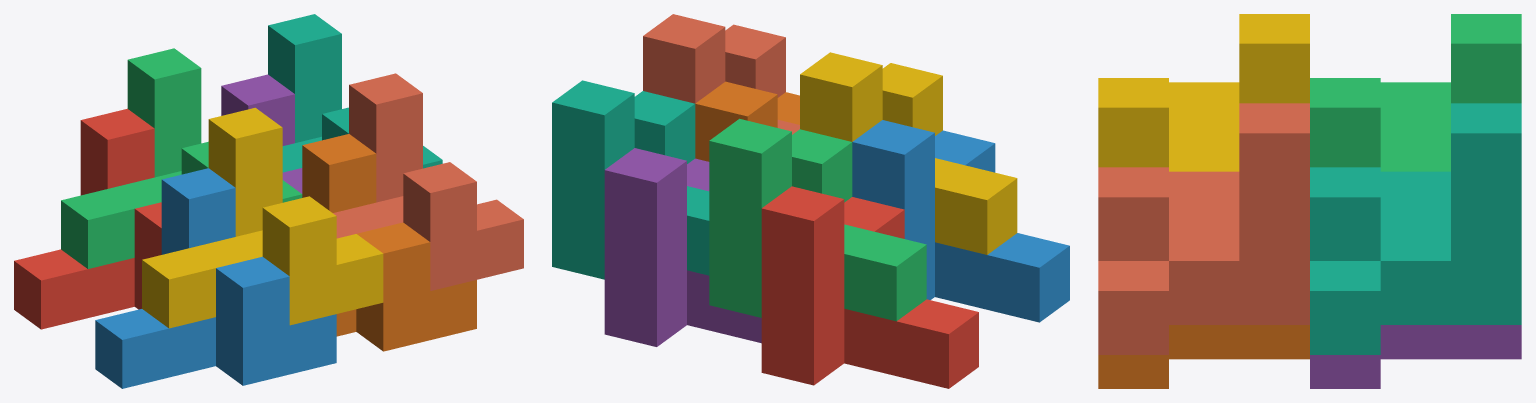
Rendered from tiling.obj.
The picture shows the model from 3 angles, left to right: view 1: azimuth 30°, elevation 25°; view 2: azimuth 150°, elevation 25°; view 3: azimuth 270°, elevation 25°; orthographic projection. The views are drawn at different scales.
Parts seen in each view (by area): view 1: copy_1_domain_4, copy_1_domain_2, copy_1_domain_8, copy_1_domain_6, copy_1_domain_1, copy_1_domain_3, copy_1_domain_7, copy_1_domain_5; view 2: copy_1_domain_1, copy_1_domain_3, copy_1_domain_2, copy_1_domain_5, copy_1_domain_7, copy_1_domain_4, copy_1_domain_8, copy_1_domain_6; view 3: copy_1_domain_7, copy_1_domain_8, copy_1_domain_4, copy_1_domain_3, copy_1_domain_5, copy_1_domain_6.
Part boxes in pixels (x1,y1,x2,y2): copy_1_domain_4: (142, 107, 383, 328); copy_1_domain_2: (95, 168, 336, 388); copy_1_domain_8: (333, 73, 523, 290); copy_1_domain_6: (302, 134, 476, 351); copy_1_domain_1: (14, 108, 161, 329); copy_1_domain_3: (61, 48, 302, 268); copy_1_domain_7: (268, 14, 442, 172); copy_1_domain_5: (221, 74, 302, 193); copy_1_domain_1: (761, 186, 978, 388); copy_1_domain_3: (709, 118, 926, 321); copy_1_domain_2: (852, 120, 1069, 322); copy_1_domain_5: (604, 148, 761, 346); copy_1_domain_7: (552, 80, 709, 279); copy_1_domain_4: (800, 52, 1017, 254); copy_1_domain_8: (643, 14, 799, 134); copy_1_domain_6: (695, 81, 799, 161); copy_1_domain_7: (1310, 103, 1521, 354); copy_1_domain_8: (1098, 103, 1309, 354); copy_1_domain_4: (1098, 14, 1309, 171); copy_1_domain_3: (1310, 14, 1521, 171); copy_1_domain_5: (1310, 325, 1521, 388); copy_1_domain_6: (1098, 325, 1309, 388).
Bounding box in the file's own units: 8 × 4 × 6.
